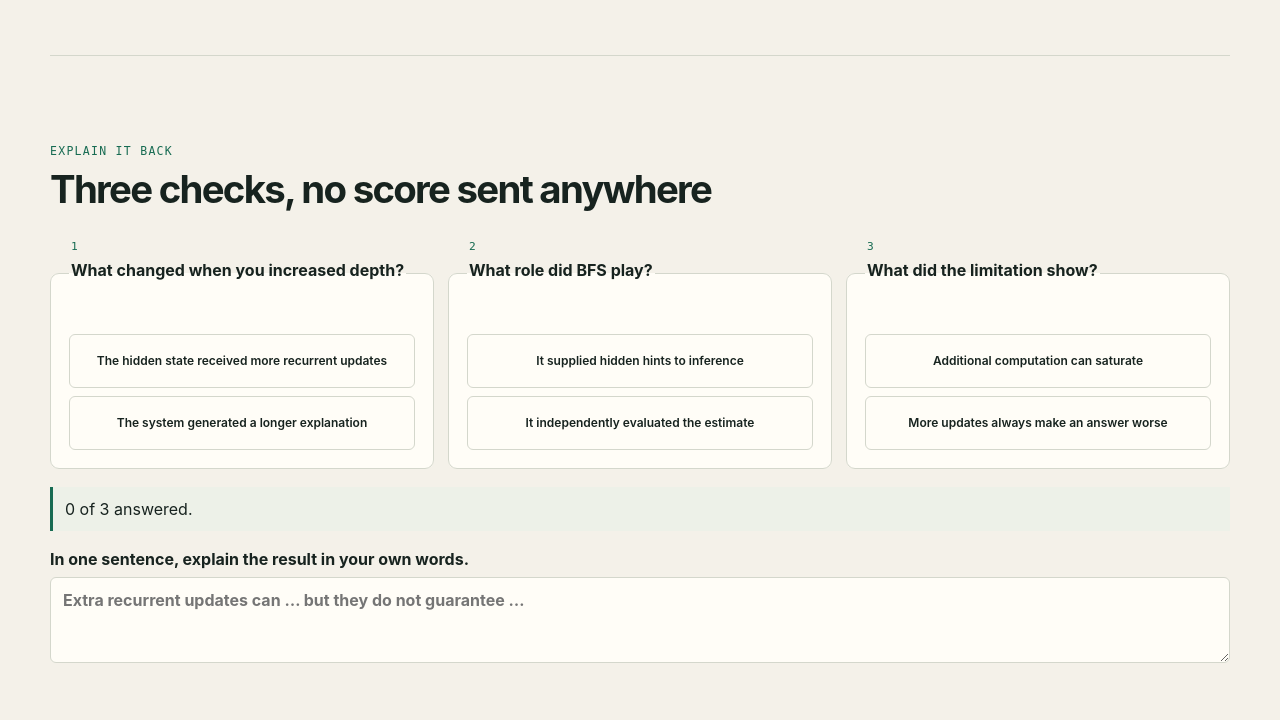
Test: interactive learning experience › provides a three-question local self-check
(page scrolled)
Click the button "The hidden state received more recurrent updates": (242, 361) [69, 334, 415, 388]
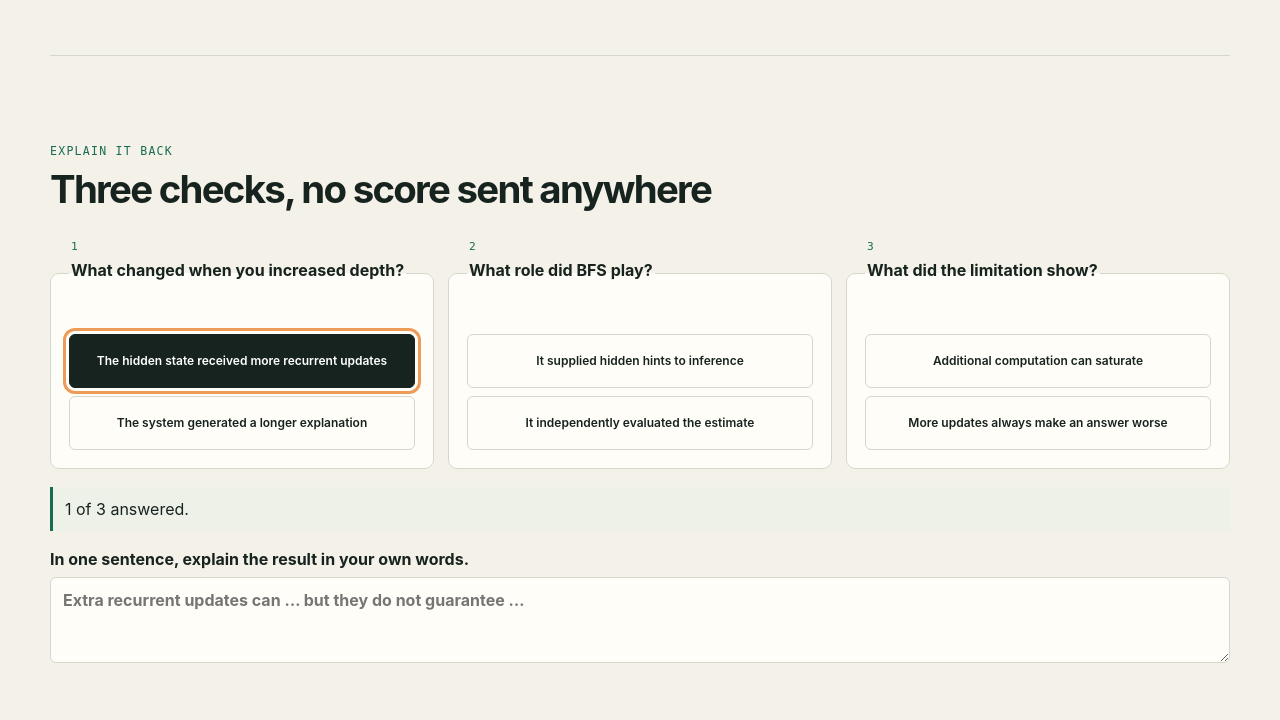
Click the button "It independently evaluated the estimate": (640, 423) [467, 396, 813, 450]
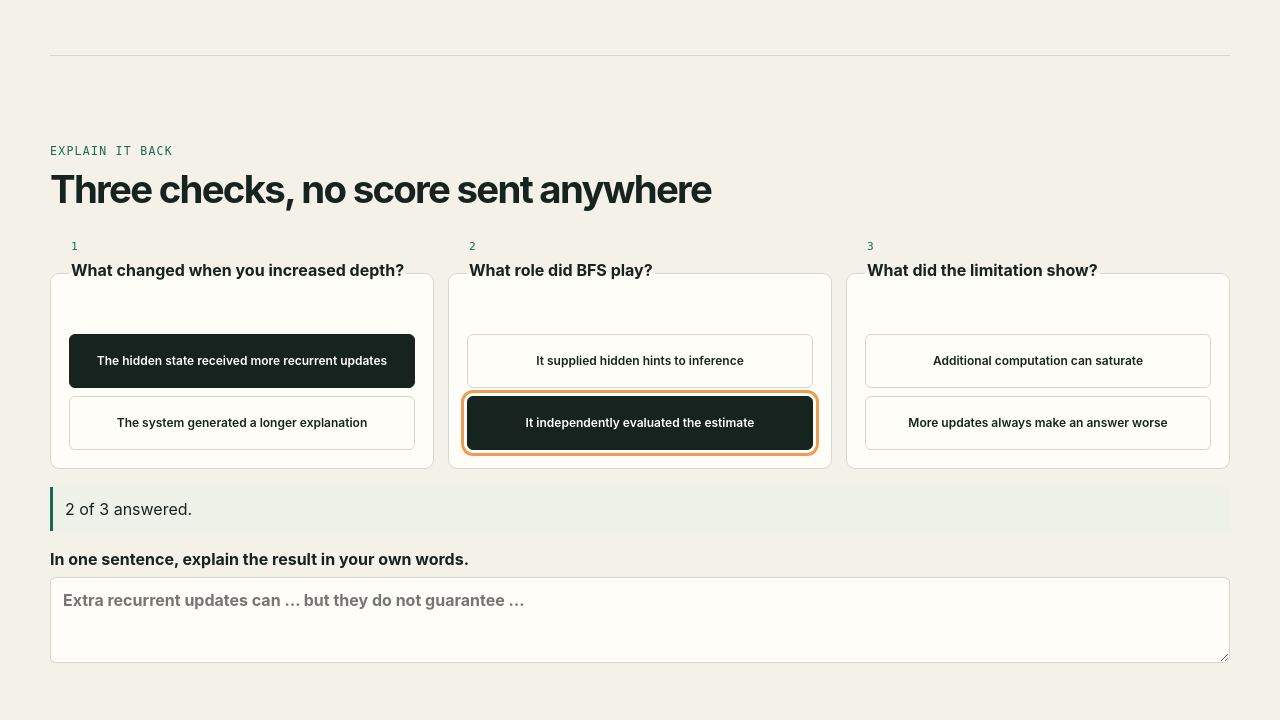
Click the button "Additional computation can saturate": (1038, 361) [865, 334, 1211, 388]
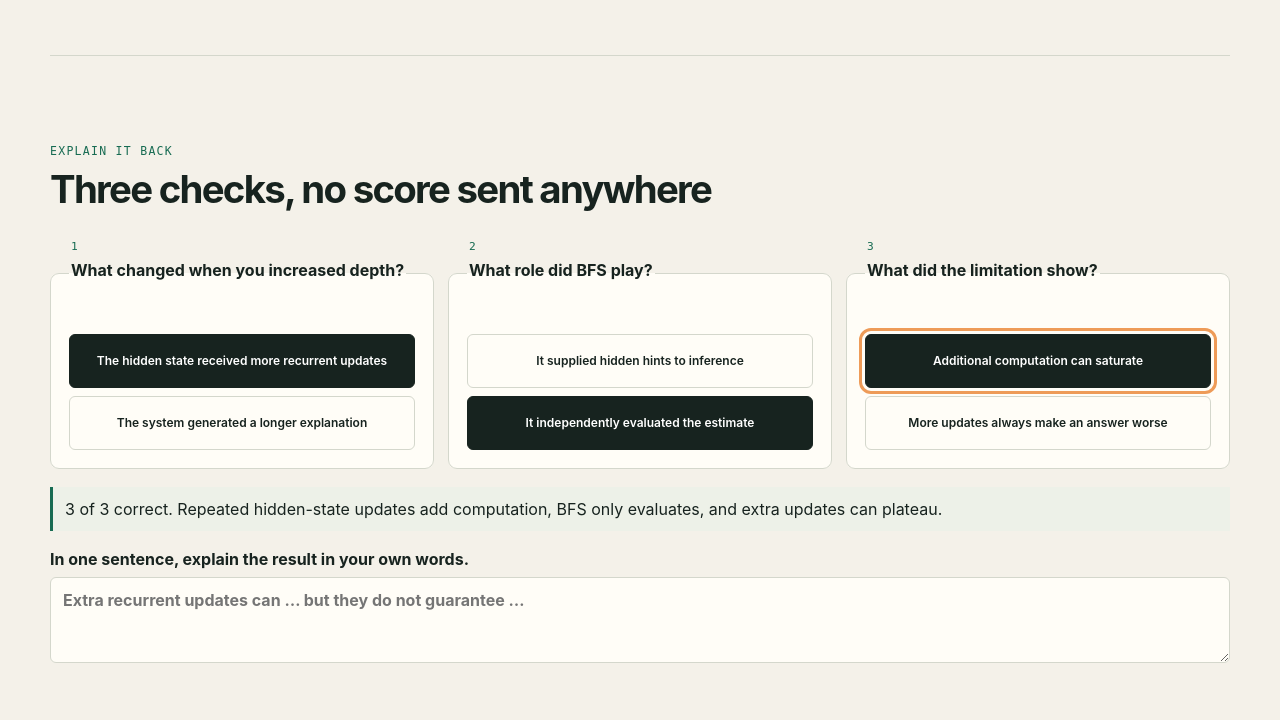
expect the text box labelled "In one sentence, explain the result in your own words." is shown: met, box [50, 577, 1230, 663]
expect the text "3 of 3 correct" is shown: met, box [65, 499, 942, 519]
